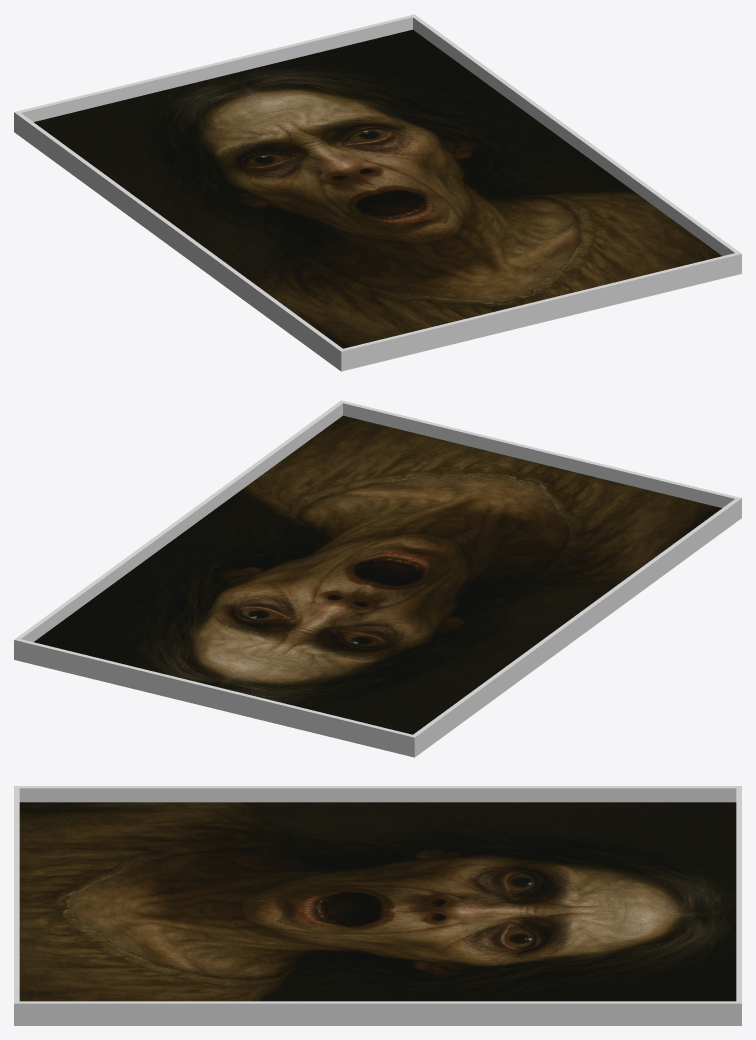
The model's file is cadres3.fbx.
3 views of the same model, one above another, from view 1: azimuth 30°, elevation 25°; view 2: azimuth 150°, elevation 25°; view 3: azimuth 270°, elevation 25° (orthographic). The views are drawn at different scales.
Parts seen in each view (by area): view 1: Cadre_3; view 2: Cadre_3; view 3: Cadre_3.
Boxes of the visible parts, x1,y1,x2,y2 form: Cadre_3: (14, 14, 741, 371); Cadre_3: (14, 400, 741, 757); Cadre_3: (14, 786, 741, 1025).
Size of the model in its own units: 4200 by 200 by 5940.
Materials: 2 (1 with a texture image).
